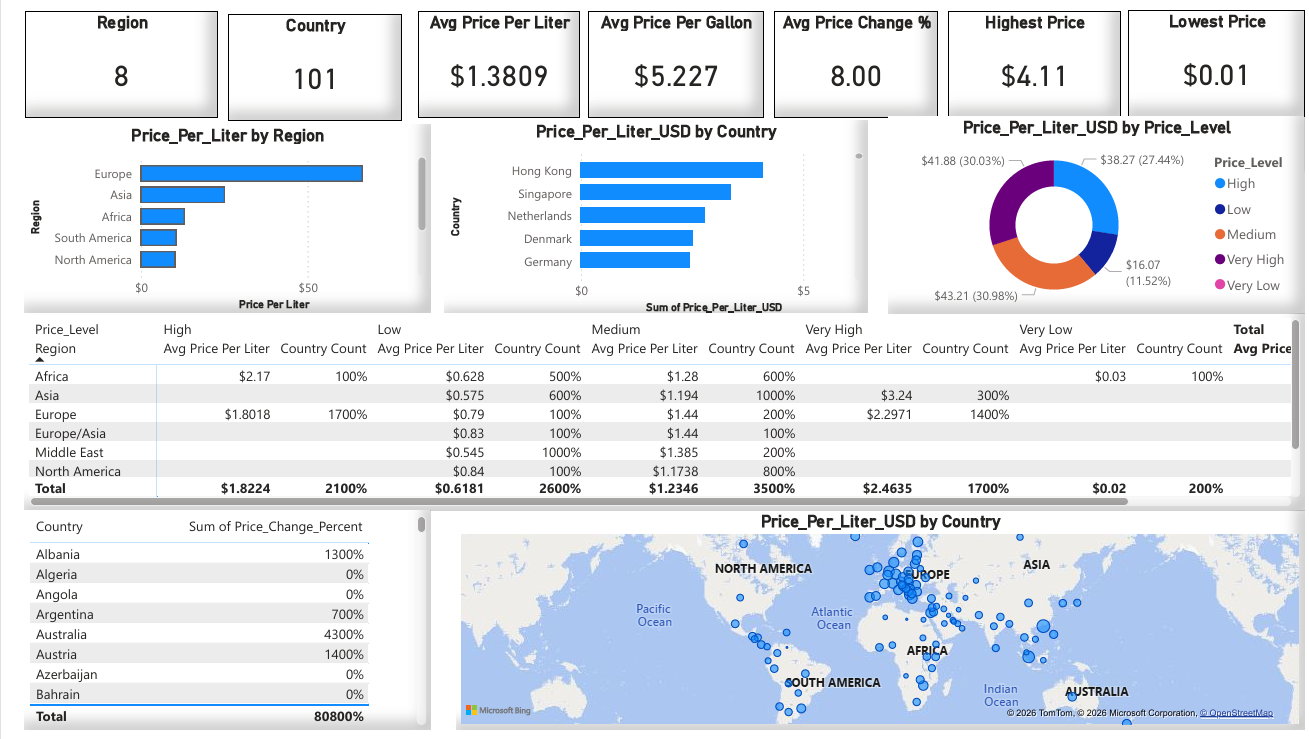

What the dashboard file says about the page in this screenshot:
{"tool":"powerbi","page":{"name":"Page 1","canvas":[1280,720],"ordinal":0},"visuals":[{"type":"card","title":"Region","fields":{"Values":["Count(Petrol.Region)"]},"box":[0,1,193.3,106.7],"z":0},{"type":"card","title":"Country","fields":{"Values":["Count(Petrol.Country)"]},"box":[202.9,3.8,174,106.7],"z":1000},{"type":"card","title":"Avg Price Per Liter","fields":{"Values":["Petrol.Avg Price Per Liter"]},"box":[393.3,1,161.5,106.7],"z":2000},{"type":"card","title":"Avg Price Per Gallon","fields":{"Values":["Petrol.Avg Price Per Gallon"]},"box":[562.5,1,176.9,106.7],"z":3000},{"type":"card","title":"Avg Price Change %","fields":{"Values":["Petrol.Avg Price Change %"]},"box":[749,1,163.5,106.7],"z":4000},{"type":"card","title":" Highest Price","fields":{"Values":["Petrol.Max Price Per Liter"]},"box":[923.1,1,173.1,106.7],"z":5000},{"type":"card","title":" Lowest Price","fields":{"Values":["Petrol.Min Price Per Liter"]},"box":[1102.9,0,176.9,106.7],"z":6000},{"type":"barChart","title":" Price_Per_Liter by Region","fields":{"Y":["Sum(Petrol.Price_Per_Liter_USD)"],"Category":["Petrol.Region"]},"box":[0,114.6,405.7,189.9],"z":7000},{"type":"map","title":"Price_Per_Liter_USD by Country","fields":{"Size":["Sum(Petrol.Price_Per_Liter_USD)"],"Category":["Petrol.Country"]},"box":[432,501,848,219],"z":8000},{"type":"barChart","title":"Price_Per_Liter_USD by Country","fields":{"Category":["Petrol.Country"],"Y":["Sum(Petrol.Price_Per_Liter_USD)"]},"box":[420,111,422.7,197],"z":9000},{"type":"pivotTable","fields":{"Rows":["Petrol.Region"],"Columns":["Petrol.Price_Level"],"Values":["Petrol.Avg Price Per Liter","Petrol.Country Count"]},"box":[0,304.5,1279.7,197],"z":10000},{"type":"tableEx","fields":{"Values":["Petrol.Country","Sum(Petrol.Price_Change_Percent)"]},"box":[0,501.5,405.7,218.5],"z":11000},{"type":"donutChart","title":" Price_Per_Liter_USD by Price_Level","fields":{"Series":["Petrol.Price_Level"],"Y":["Sum(Petrol.Price_Per_Liter_USD)"]},"box":[864.2,107.5,415.5,197],"z":12000}]}

Visuals, with their boxes in screenshot pixels (x1, y1, x2, y2), scaled from the page's 1280x720 canvas onto the 1309x739 screenshot:
"Region" card: locate(0, 1, 198, 111)
"Country" card: locate(207, 4, 385, 113)
"Avg Price Per Liter" card: locate(402, 1, 567, 111)
"Avg Price Per Gallon" card: locate(575, 1, 756, 111)
"Avg Price Change %" card: locate(766, 1, 933, 111)
" Highest Price" card: locate(944, 1, 1121, 111)
" Lowest Price" card: locate(1128, 0, 1308, 110)
" Price_Per_Liter by Region" barChart: locate(0, 118, 415, 313)
"Price_Per_Liter_USD by Country" map: locate(442, 514, 1308, 738)
"Price_Per_Liter_USD by Country" barChart: locate(430, 114, 862, 316)
pivotTable - Petrol.Region x Petrol.Price_Level: locate(0, 313, 1308, 515)
tableEx - Petrol.Country x Sum(Petrol.Price_Change_Percent): locate(0, 515, 415, 738)
" Price_Per_Liter_USD by Price_Level" donutChart: locate(884, 110, 1308, 313)
